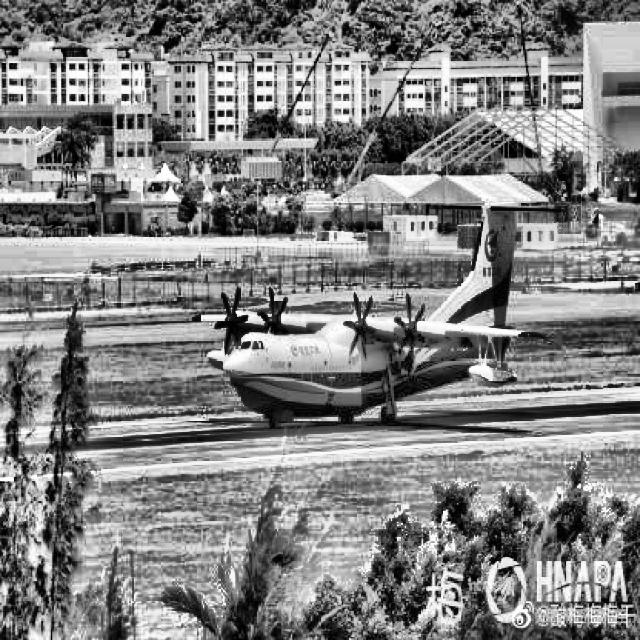AG600: (192, 201, 568, 430)
